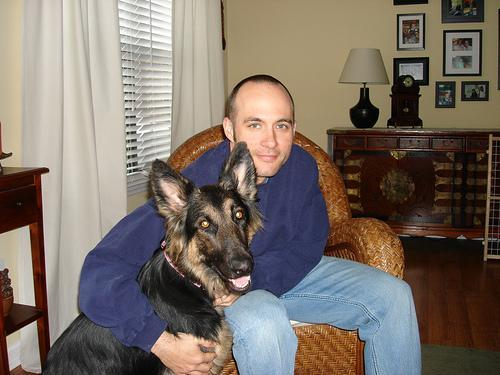German_shepherd: (45, 142, 266, 374)
